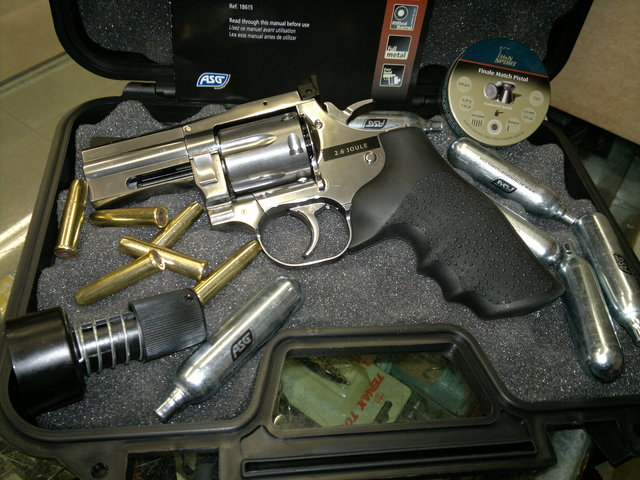Revolver: (57, 93, 570, 318)
